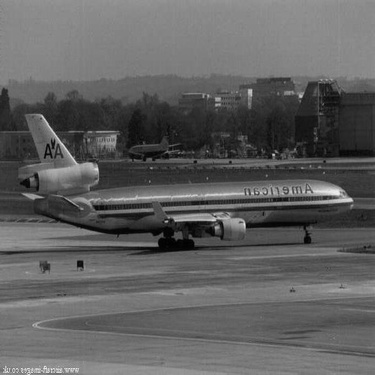airplane: (11, 104, 363, 252), (113, 129, 182, 168)
